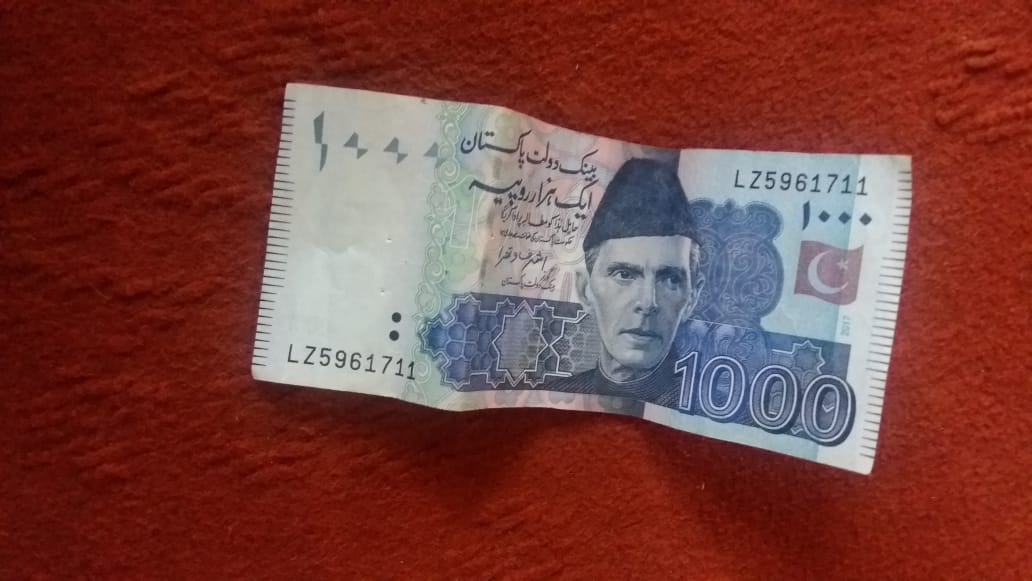1000 rupee: (257, 77, 898, 487)
